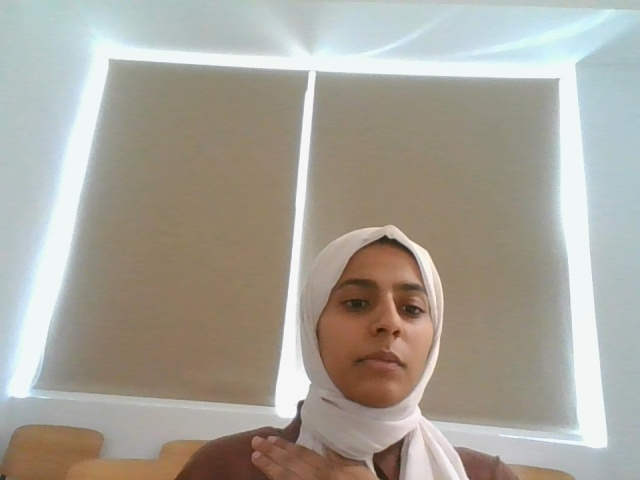please: (235, 421, 391, 480)
